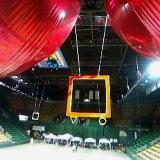Orange_Square_GShape: (66, 75, 111, 117)
Yellow_Circle_GShape: (99, 117, 106, 125)
Yellow_Square_GShape: (31, 112, 40, 121)
Yellow_Triangle_Gshape: (70, 116, 78, 124)
